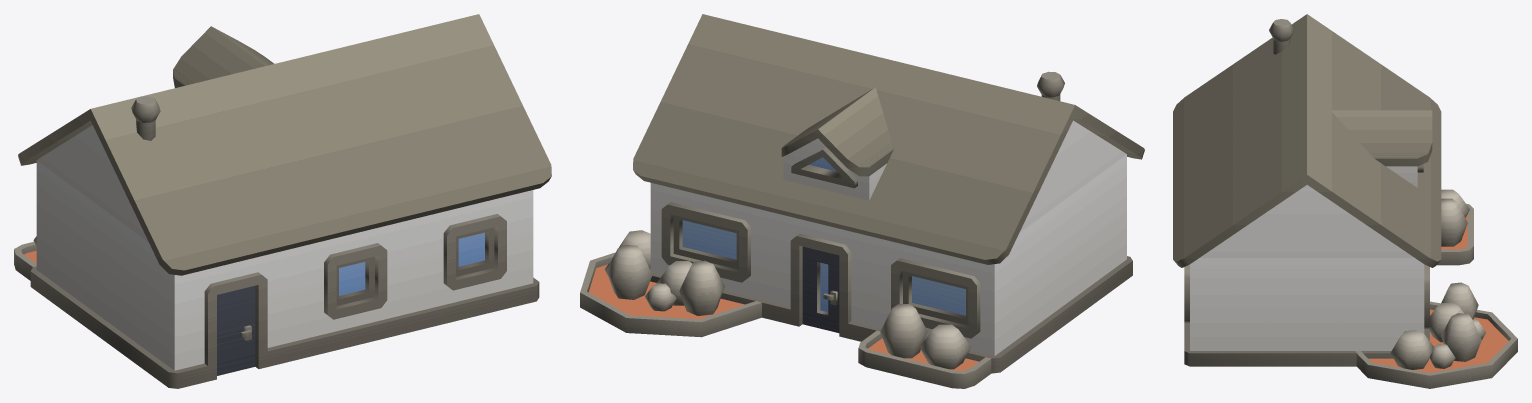
Rendered from sub-building-type-g.glb.
3 renders of one model, left to right at view 1: azimuth 30°, elevation 25°; view 2: azimuth 150°, elevation 25°; view 3: azimuth 270°, elevation 25°, orthographic. The views are drawn at different scales.
Visible parts, largest first — view 1: building-type-g; view 2: building-type-g; view 3: building-type-g.
Part boxes in pixels (x1,y1,x2,y2): building-type-g: [14, 14, 551, 388]; building-type-g: [580, 14, 1144, 388]; building-type-g: [1173, 14, 1517, 388].
Size of the model in its own units: 1.45 by 0.7683 by 1.18.
1 material, 1 textured.
